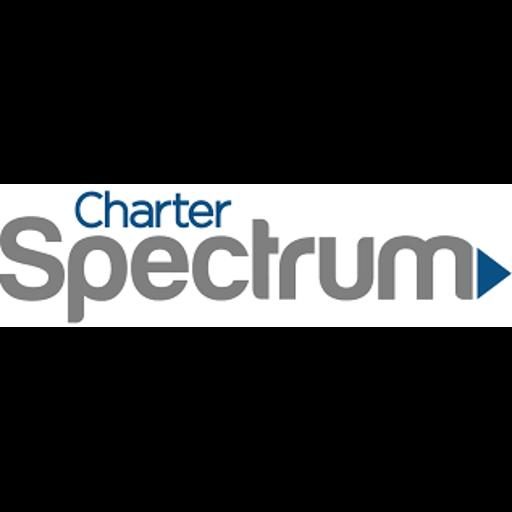Spectrum: (0, 184, 512, 327)
